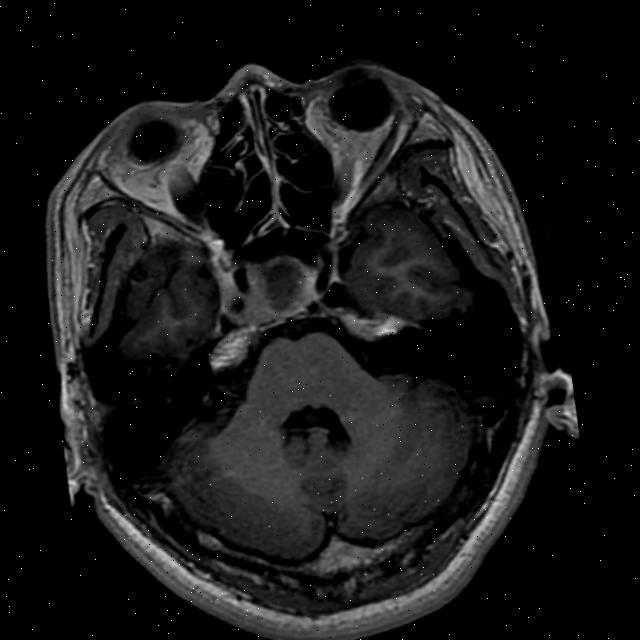Pituitary: (242, 246, 325, 326)
